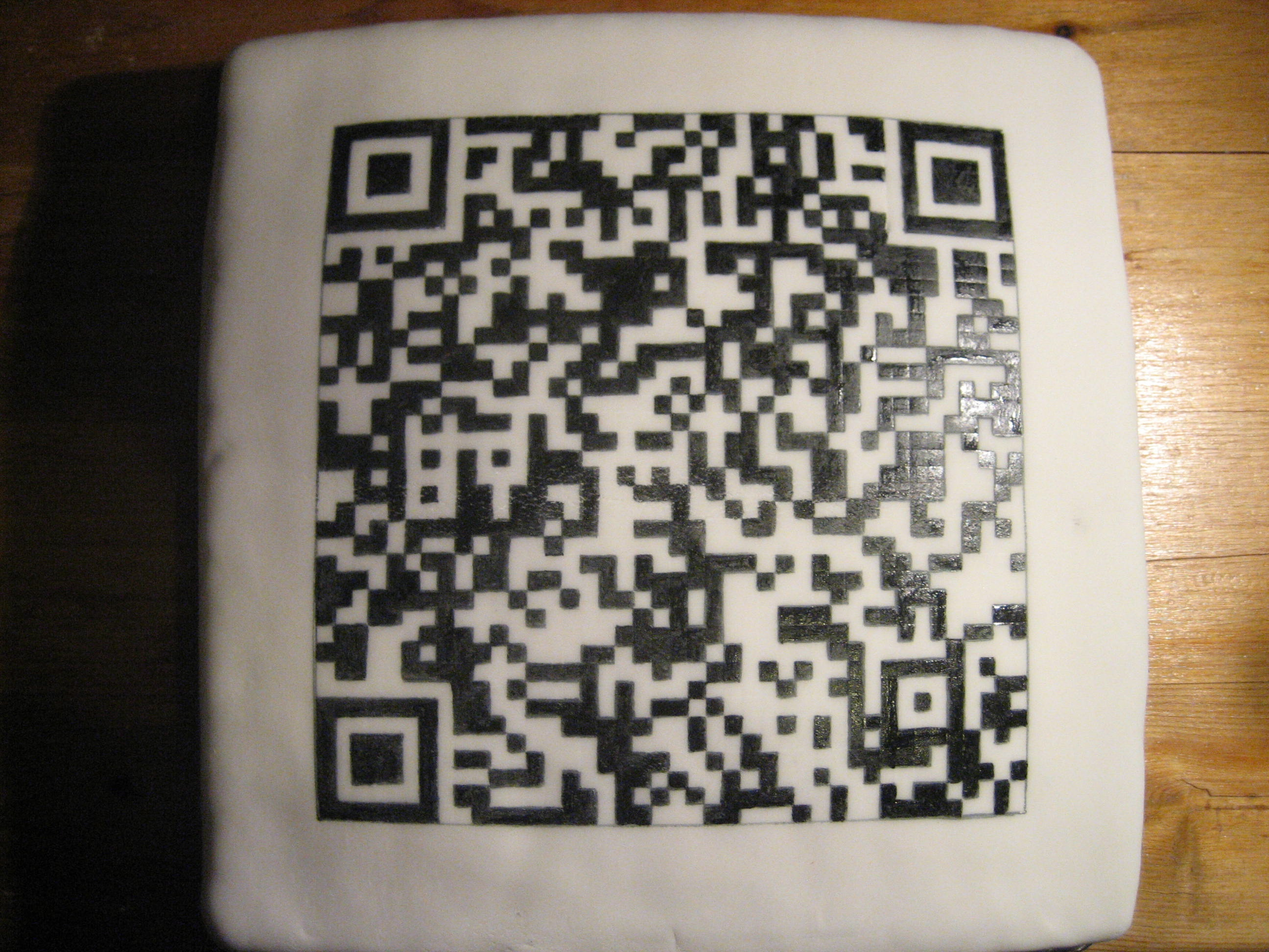QR-CODE: (314, 115, 1027, 824)
